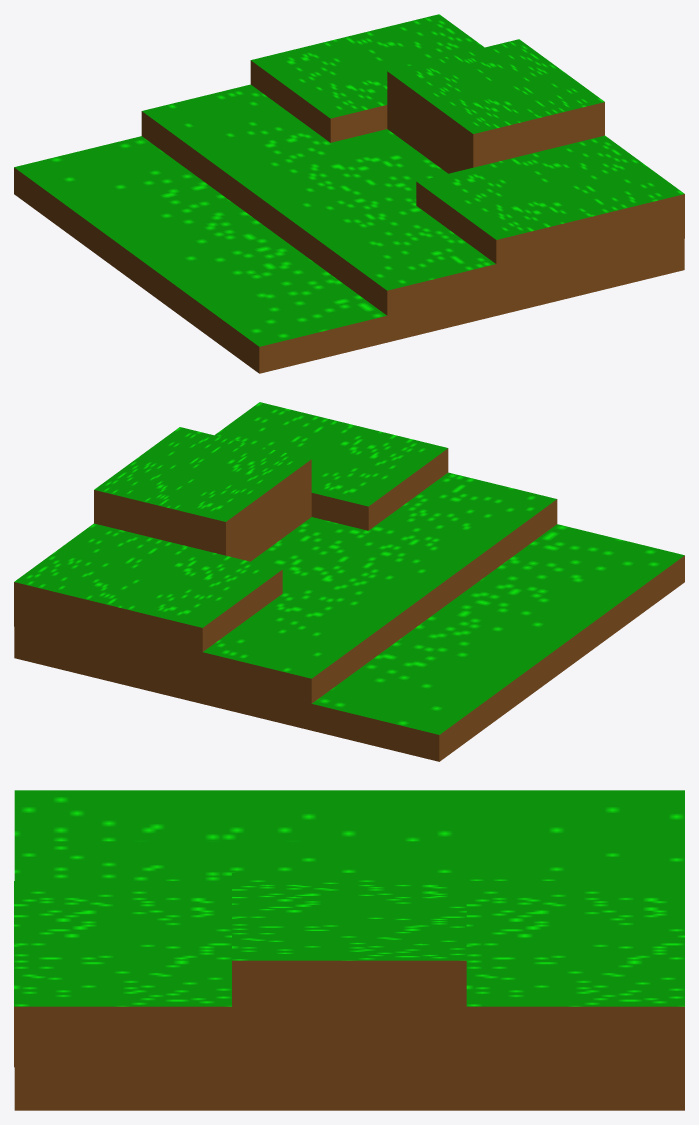
The model's file is TestMap10-3.fbx.
3 views of the same model, one above another, from view 1: azimuth 30°, elevation 25°; view 2: azimuth 150°, elevation 25°; view 3: azimuth 270°, elevation 25° (orthographic). The views are drawn at different scales.
Parts seen in each view (by area): view 1: map1Body, map1Body.005, map1Body.002, map1Body.003, map1Body.001; view 2: map1Body, map1Body.005, map1Body.001, map1Body.003, map1Body.002; view 3: map1Body, map1Body.003, map1Body.005, map1Body.001, map1Body.002.
Part boxes in pixels (box(x1,y1,x2,y2)): map1Body: box(141, 84, 684, 340); map1Body.005: box(14, 136, 684, 373); map1Body.002: box(416, 135, 684, 284); map1Body.003: box(387, 39, 604, 173); map1Body.001: box(250, 14, 484, 142); map1Body: box(14, 472, 557, 730); map1Body.005: box(14, 524, 684, 761); map1Body.001: box(14, 523, 282, 672); map1Body.003: box(94, 427, 311, 561); map1Body.002: box(215, 402, 448, 530); map1Body: box(14, 841, 684, 1110); map1Body.003: box(232, 873, 466, 1067); map1Body.005: box(14, 790, 684, 1110); map1Body.001: box(466, 881, 684, 1067); map1Body.002: box(14, 881, 232, 1067).
Size of the model in its own units: 401 by 98.78 by 401.
Materials: 1 (1 with a texture image).
